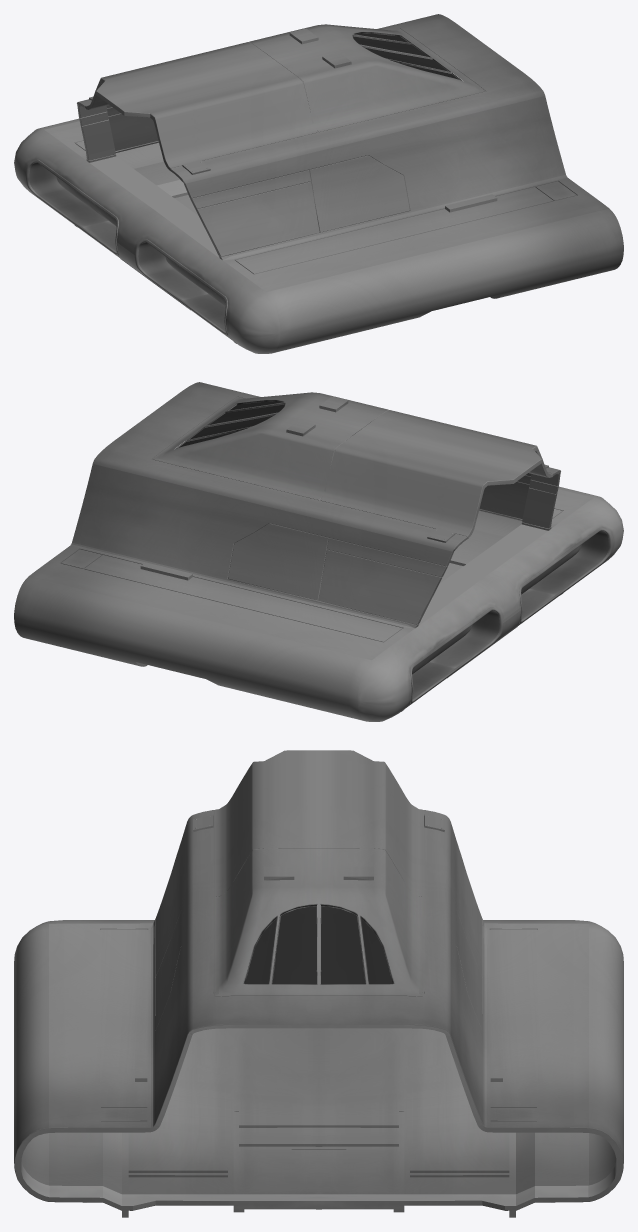
File: cuerpo.fbx
3 renders of one model, top to bottom at view 1: azimuth 30°, elevation 25°; view 2: azimuth 150°, elevation 25°; view 3: azimuth 270°, elevation 25°, orthographic. The views are drawn at different scales.
Visible parts, largest first — view 1: cuerpo; view 2: cuerpo; view 3: cuerpo.
Boxes of the visible parts, x1=… form: cuerpo: x1=14, y1=14, x2=623, y2=353; cuerpo: x1=14, y1=382, x2=623, y2=721; cuerpo: x1=14, y1=750, x2=623, y2=1217.
Size of the model in its own units: 63.52 by 31.37 by 70.96.
